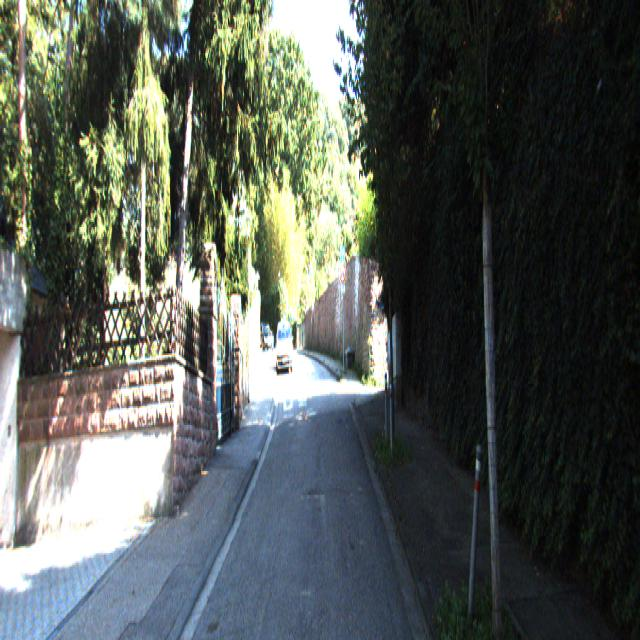Car: (276, 318, 292, 376), (260, 320, 273, 351)
